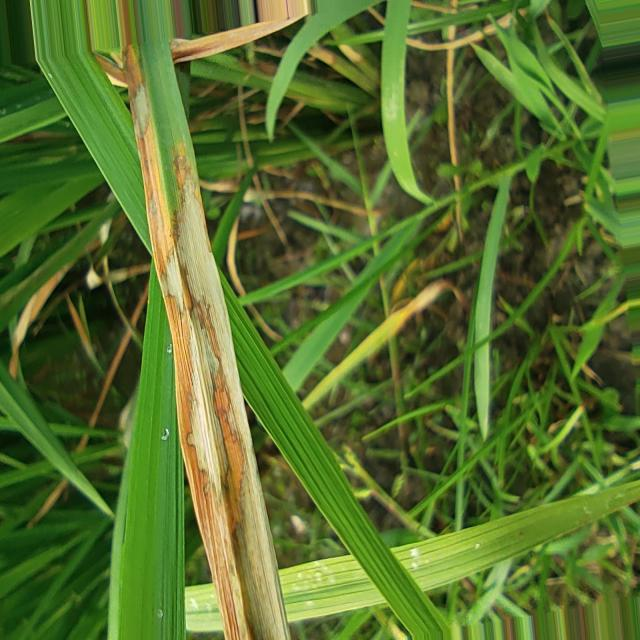Leaf_Blast: (302, 280, 458, 410), (170, 15, 304, 63)
Rice False Smut: (125, 48, 289, 638)
